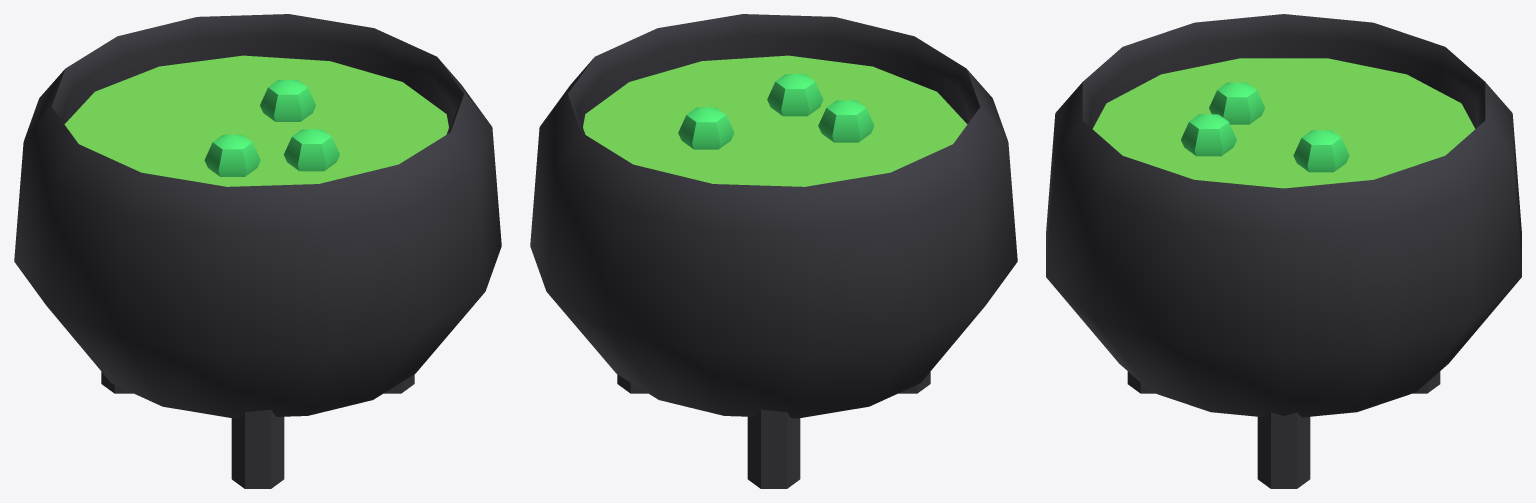
File: Cauldron.fbx
3 renders of one model, left to right at view 1: azimuth 30°, elevation 25°; view 2: azimuth 150°, elevation 25°; view 3: azimuth 270°, elevation 25°, orthographic.
Parts seen in each view (by area): view 1: Cauldron; view 2: Cauldron; view 3: Cauldron.
Part boxes in pixels (left/top/right/bottom): Cauldron: left=14, top=14, right=501, bottom=488; Cauldron: left=530, top=14, right=1017, bottom=488; Cauldron: left=1046, top=14, right=1521, bottom=488.
Bounding box in the file's own units: 2.6 × 1.85 × 2.53.
Materials: 1 (1 with a texture image).
